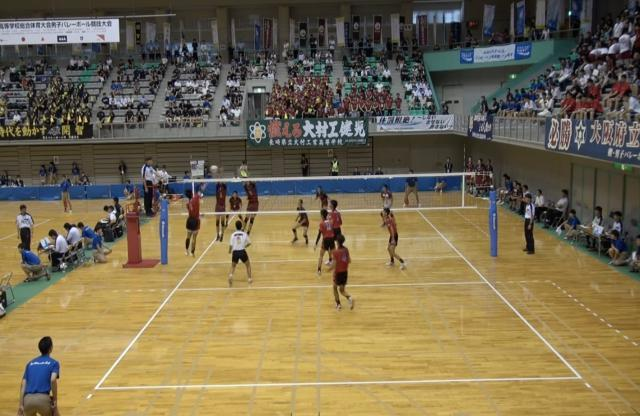spike: (180, 164, 218, 262)
